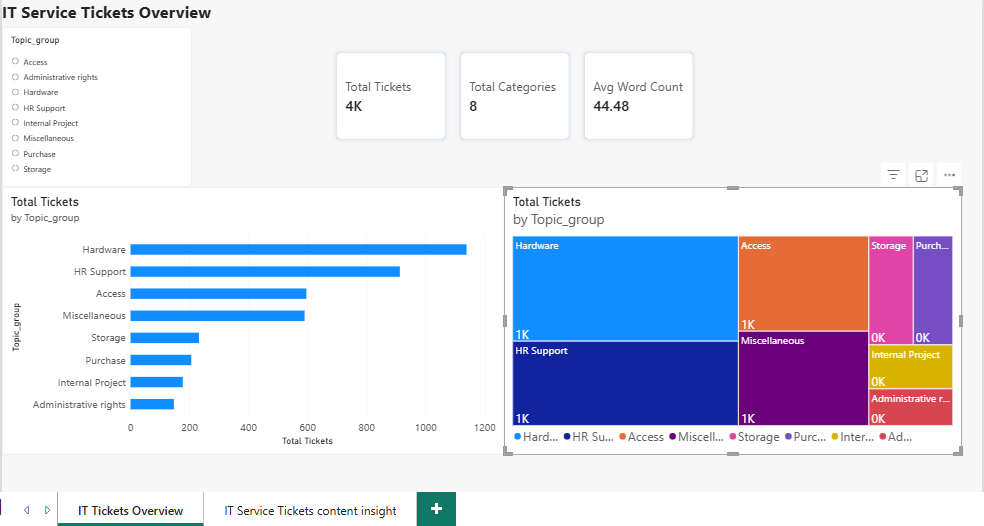

What the dashboard file says about the page in this screenshot:
{"tool":"powerbi","page":{"name":"IT Tickets Overview","canvas":[1920,1080],"ordinal":0},"visuals":[{"type":"cardVisual","fields":{"Data":["00_Measures.Total Tickets","00_Measures.Total Categories","00_Measures.Avg Word Count"]},"box":[644.7,91.5,723.8,192.7],"z":0},{"type":"clusteredBarChart","fields":{"Category":["it_tickets_sample_4000.Topic_group"],"Y":["00_Measures.Total Tickets"]},"box":[0,397.2,985.6,562.4],"z":1},{"type":"treemap","fields":{"Group":["it_tickets_sample_4000.Topic_group"],"Values":["00_Measures.Total Tickets"]},"box":[1024.6,397.2,896.7,562],"z":2},{"type":"listSlicer","fields":{"Values":["it_tickets_sample_4000.Topic_group"]},"box":[0,53.8,371.8,330.8],"z":3},{"type":"textbox","box":[0,0,443.6,53.8],"z":4}]}

Visuals, with their boxes on the page's 1920x1080 design canvas (x1, y1, x2, y2). These are canvas units, not pixel positions in the 984x526 screenshot, which may show the page scaled, cropped or inside an application window:
cardVisual - 00_Measures.Total Tickets x 00_Measures.Total Categories: box(645, 92, 1368, 284)
clusteredBarChart - it_tickets_sample_4000.Topic_group x 00_Measures.Total Tickets: box(0, 397, 986, 960)
treemap - it_tickets_sample_4000.Topic_group x 00_Measures.Total Tickets: box(1025, 397, 1921, 959)
listSlicer - it_tickets_sample_4000.Topic_group: box(0, 54, 372, 385)
textbox: box(0, 0, 444, 54)
